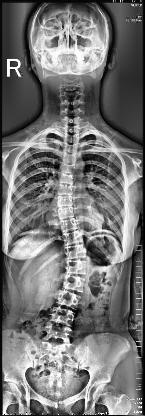Vertebrae: (50, 306, 76, 327), (55, 290, 81, 310), (44, 326, 72, 344), (63, 274, 86, 294), (62, 231, 84, 247), (64, 244, 86, 260), (65, 260, 87, 274), (60, 218, 78, 232), (58, 206, 74, 220), (64, 132, 80, 144), (58, 184, 74, 196), (62, 154, 78, 164), (60, 164, 76, 174), (59, 174, 75, 184), (58, 196, 74, 206), (64, 144, 78, 154)
